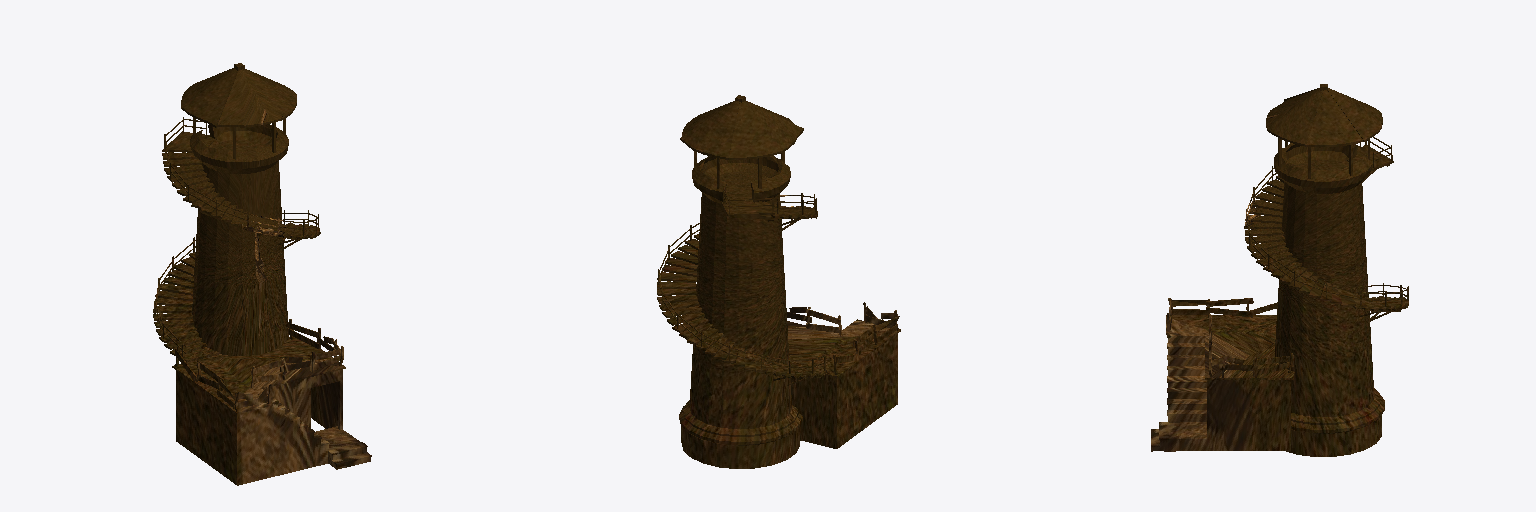
The picture shows the model from 3 angles: view 1: azimuth 30°, elevation 25°; view 2: azimuth 150°, elevation 25°; view 3: azimuth 270°, elevation 25°; orthographic projection.
Parts seen in each view (by area): view 1: default; view 2: default; view 3: default.
Boxes of the visible parts, x1,y1,x2,y2 form: default: [153, 63, 371, 485]; default: [657, 95, 900, 468]; default: [1151, 84, 1408, 456].
Size of the model in its own units: 7.19 by 15.49 by 10.47.
Materials: 1 (1 with a texture image).